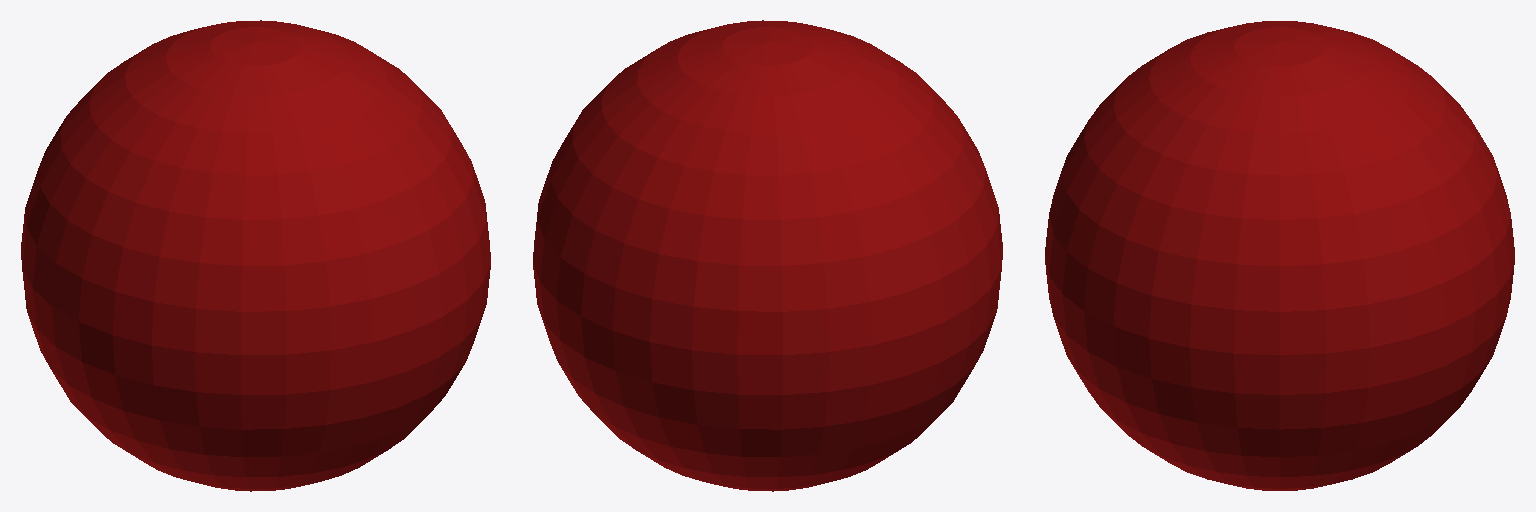
The robot description file, URDF, robot "foosball_table":
<robot name="foosball_table">

  <material name="red">
    <color rgba="0.6 0.1 0.1 1.0" />
  </material>
	<!-- * * * Link Definitions * * * -->

	<link name="ball">
		<inertial>
			<mass value="1"/>
			<inertia ixx="1" ixy="0" ixz="0" iyy="1" iyz="0" izz="1"/>
		</inertial>
		<visual>
			<origin xyz="0 0 0" rpy="0 0 0"/>
			<geometry>
				<sphere radius=".02" />
			</geometry>
            <material name="red" />
		</visual>
    <collision>
      <origin rpy="0 0 0" xyz="0.0 0.0 0.0"/>
			<geometry>
				<sphere radius=".02" />
			</geometry>
    </collision>
	</link>
</robot>

--- Render facts (derived) ---
The picture shows the robot from 3 angles, left to right: view 1: azimuth 30°, elevation 25°; view 2: azimuth 150°, elevation 25°; view 3: azimuth 270°, elevation 25°; orthographic projection.
Model foosball_table with 1 links and 0 joints (none), rooted at ball, posed every joint at zero.
Visible links, largest first — view 1: ball; view 2: ball; view 3: ball.
Link boxes in pixels (<box>): ball: <box>21,20,490,491</box>; ball: <box>533,20,1002,491</box>; ball: <box>1045,21,1514,490</box>.
Bounding box of the posed robot: 0.04 × 0.04 × 0.04 m (x, y, z).
Geometry: primitives only (box / cylinder / sphere), no mesh files.